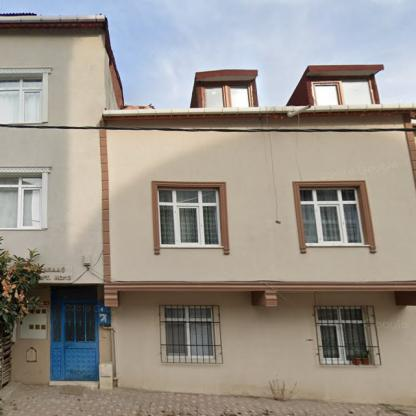door: (51, 302, 98, 379)
window: (158, 187, 220, 245), (300, 189, 363, 245), (316, 309, 369, 362), (164, 308, 213, 357), (0, 177, 42, 226), (0, 80, 42, 121), (315, 81, 371, 105), (205, 85, 249, 108)
